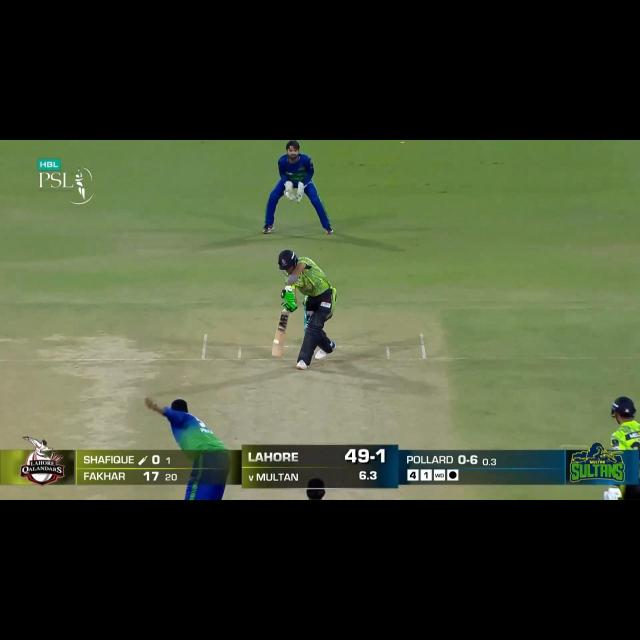bat: (270, 310, 290, 358), (601, 485, 622, 500)
toe: (268, 349, 285, 358)
